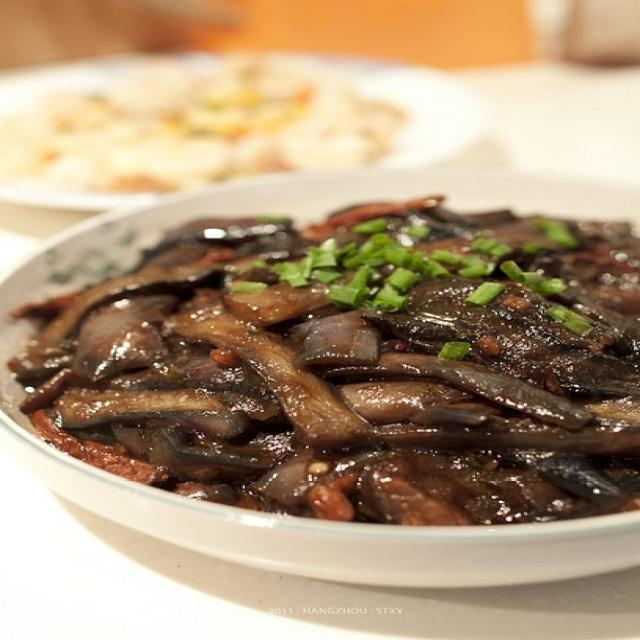鸡蛋料理: (22, 181, 629, 573)
